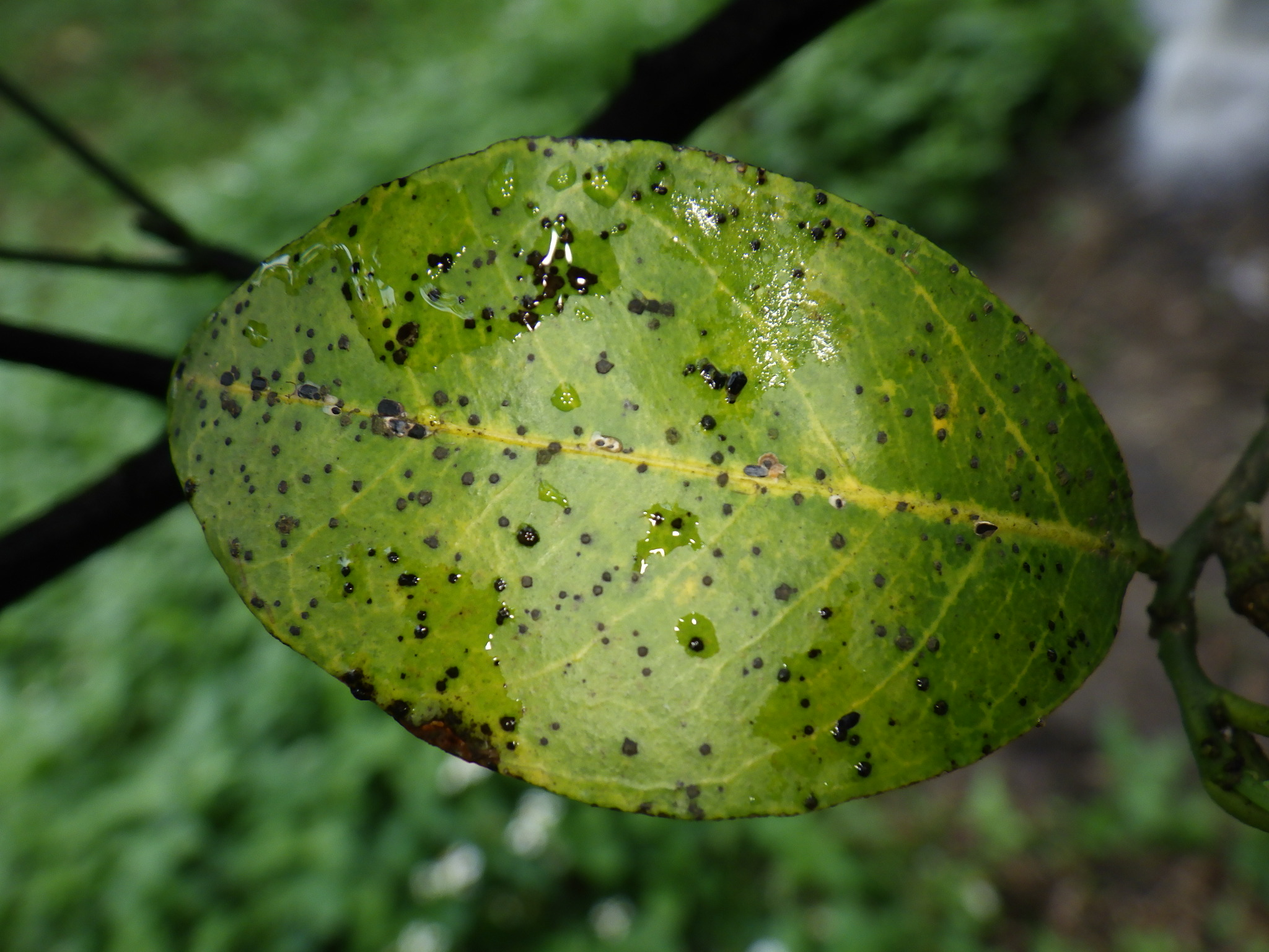Oily_Spot: (167, 137, 1143, 819)
